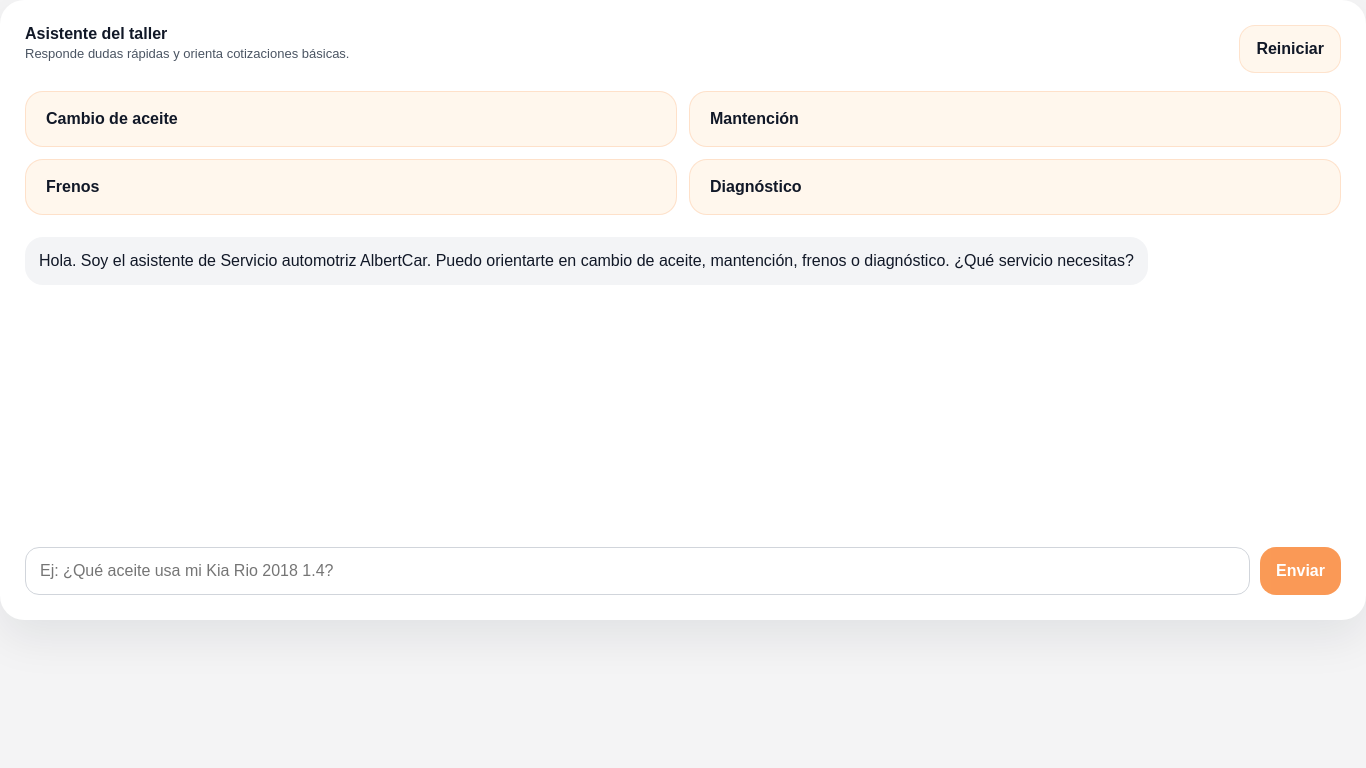
AssistantChat › muestra un error traducido cuando la API responde rate limit
Expected: the text "¿Qué servicio necesitas?" is shown, [39,252,1134,269]
Click the button "Diagnóstico": click(756, 186) [689,159,1341,215]
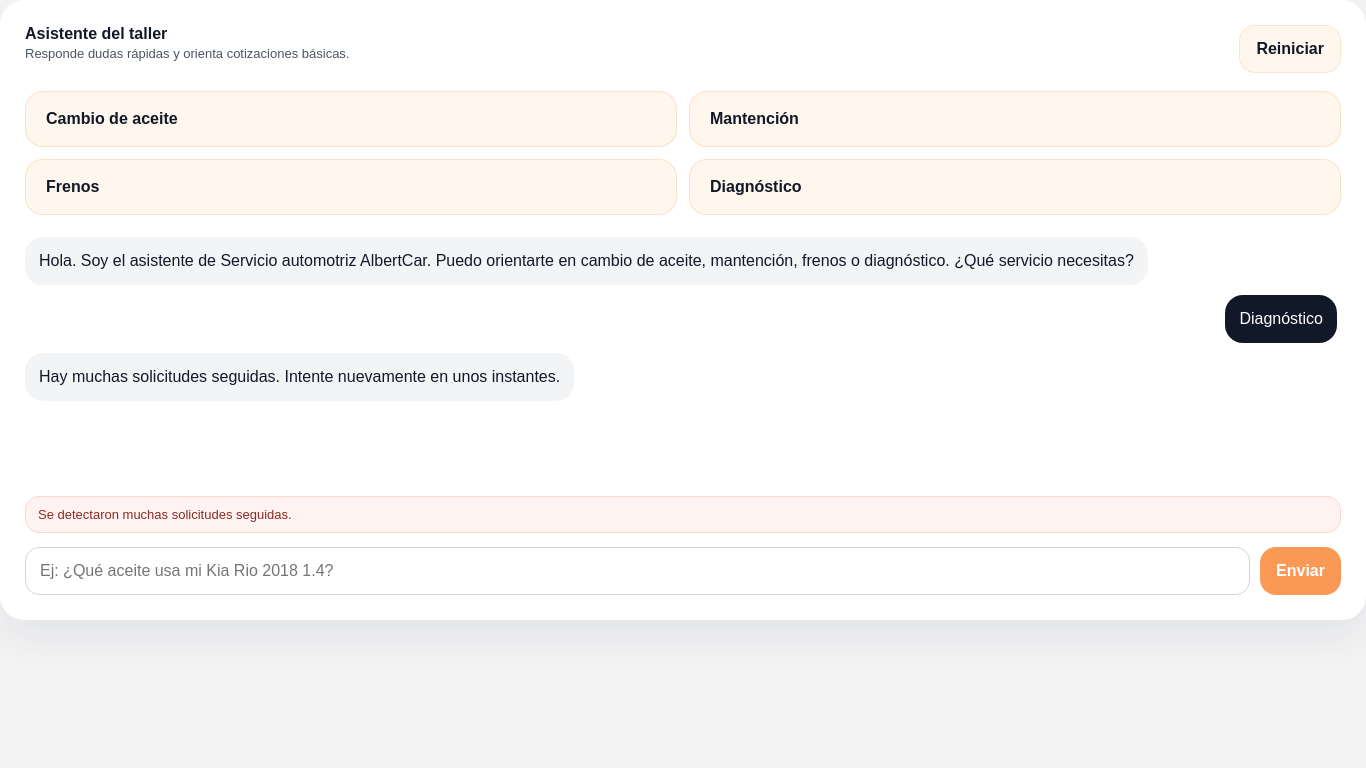
Now the text "Hay muchas solicitudes seguidas. Intente nuevamente en unos instantes." is shown, box [25,353,574,401]
Now the text "Se detectaron muchas solicitudes seguidas." is shown, box [25,496,1341,533]
